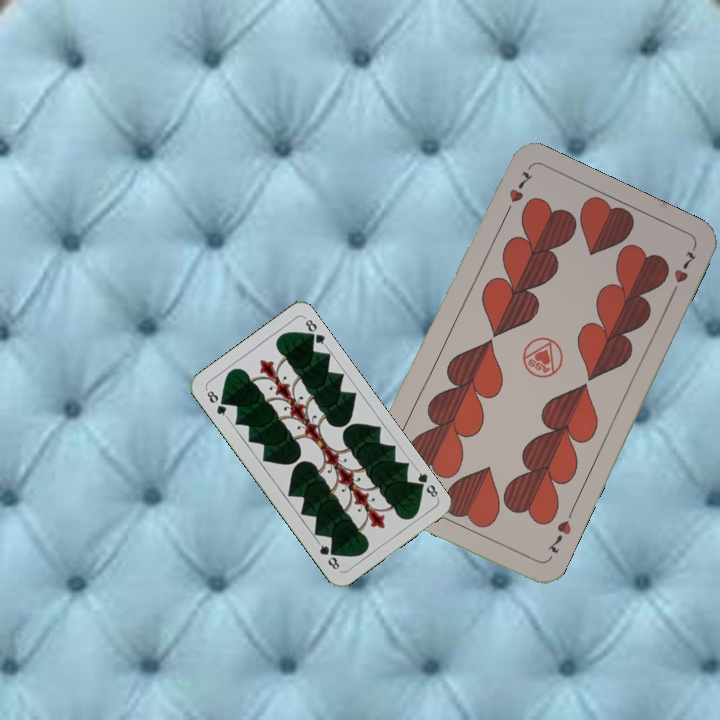G8: (411, 465, 441, 501), (202, 385, 231, 421)
H7: (500, 167, 536, 220), (543, 506, 576, 556)
